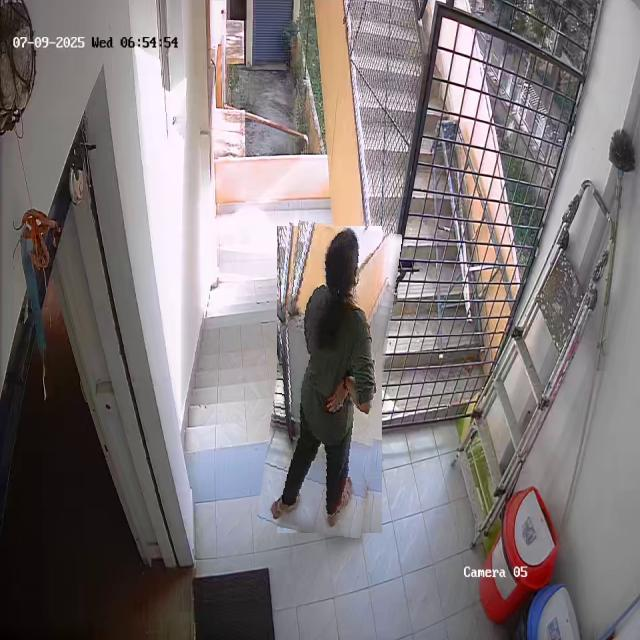person: (267, 223, 392, 536)
